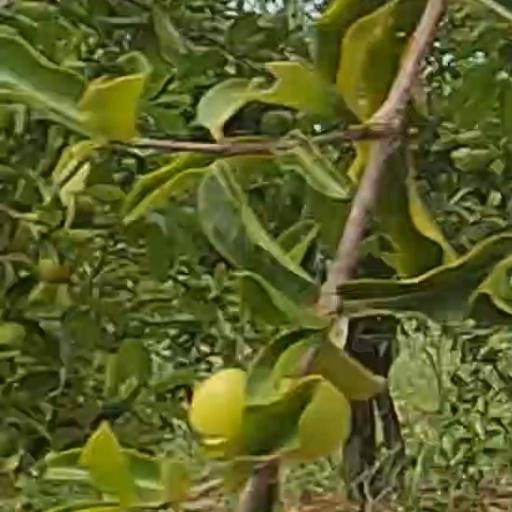acerola: (187, 370, 241, 436)
